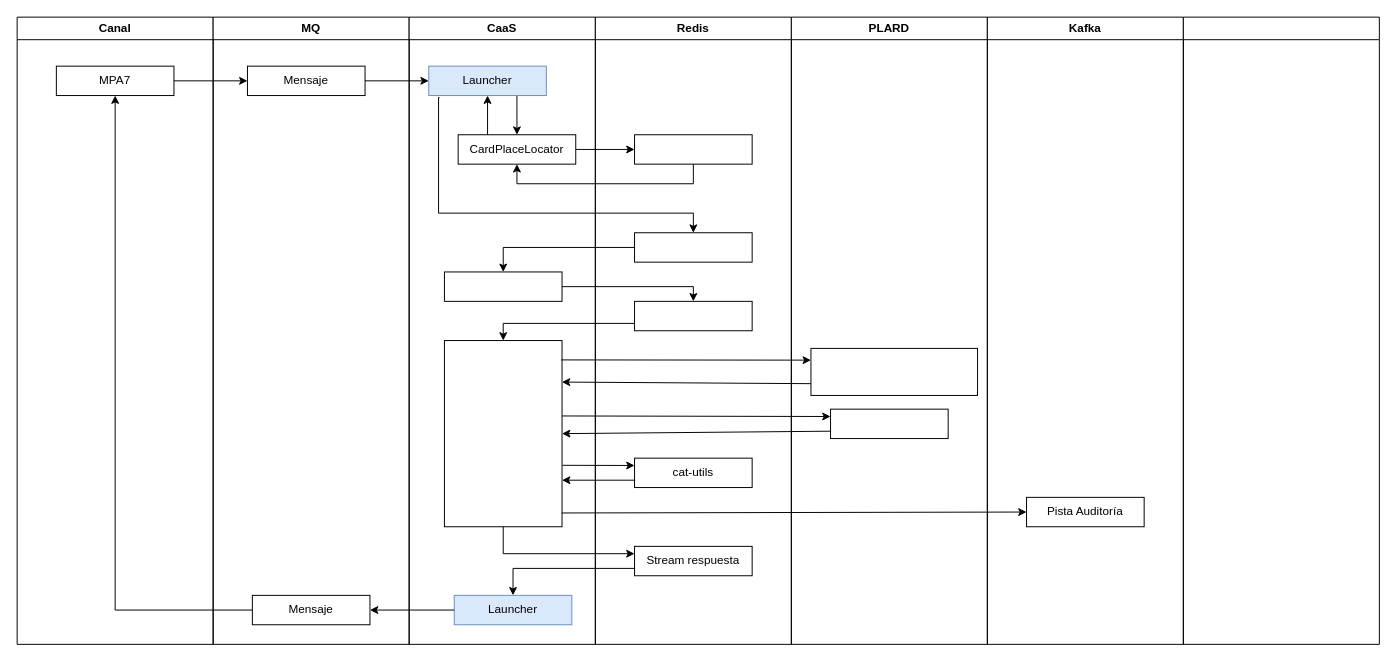
Some shapes in this 1397 by 662 pixel diagram are drawn without their labels. Here are the shapes that lost their labels. From the top down, the centre of each, then its label:
the point at 693,149: Cache
the point at 693,247: Stream 1
the point at 502,286: ms-starter
the point at 693,315: Stream 2
the point at 1280,330: Oracle
the point at 894,371: card-operability-management-api /use_limits/
the point at 502,433: devices-limits-mgt
the point at 889,423: Device Life Cycle devices/details
